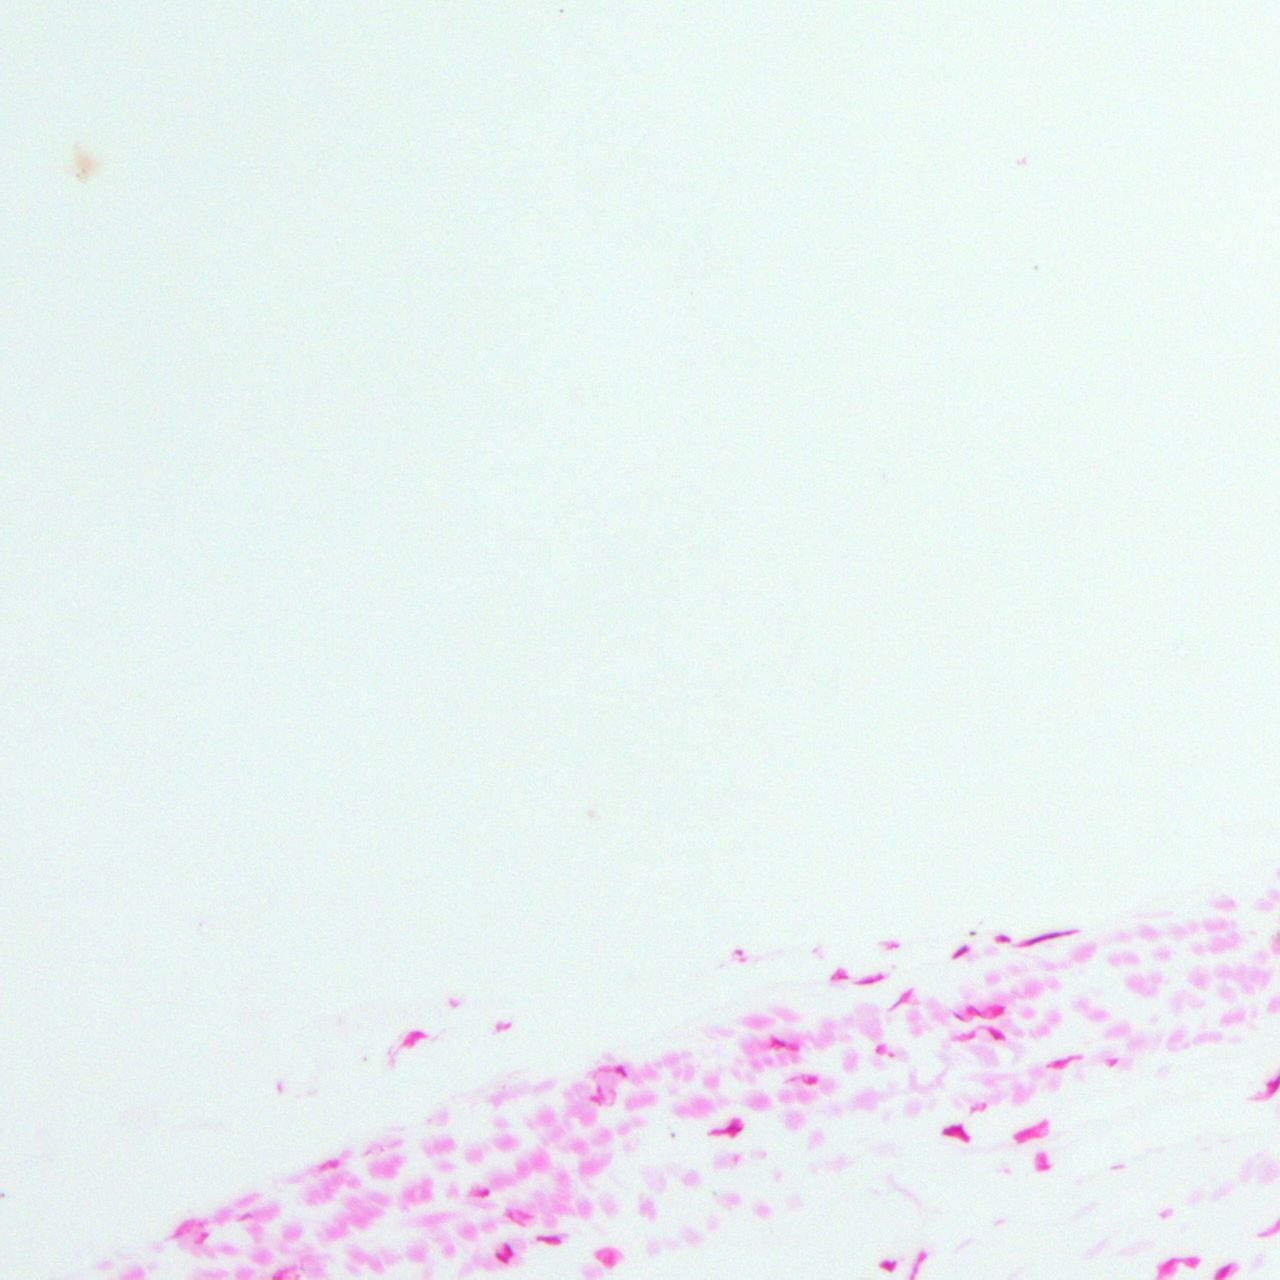dust: (968, 931, 978, 937), (670, 1132, 676, 1138), (978, 921, 983, 925), (363, 1056, 367, 1061)
nucleus-FG: (1015, 926, 1081, 948), (855, 971, 888, 987), (1157, 1257, 1180, 1280), (942, 1124, 971, 1142), (708, 1124, 742, 1138), (402, 1030, 425, 1049), (951, 942, 971, 960), (535, 1234, 561, 1245), (768, 1037, 787, 1051), (1216, 1264, 1231, 1280), (987, 1029, 1005, 1043), (879, 1260, 897, 1271), (993, 933, 1010, 944), (496, 1251, 509, 1265), (971, 1005, 982, 1017), (953, 1012, 966, 1022), (615, 1065, 626, 1077), (505, 1242, 513, 1257), (995, 1005, 1005, 1016), (481, 1189, 489, 1198)
